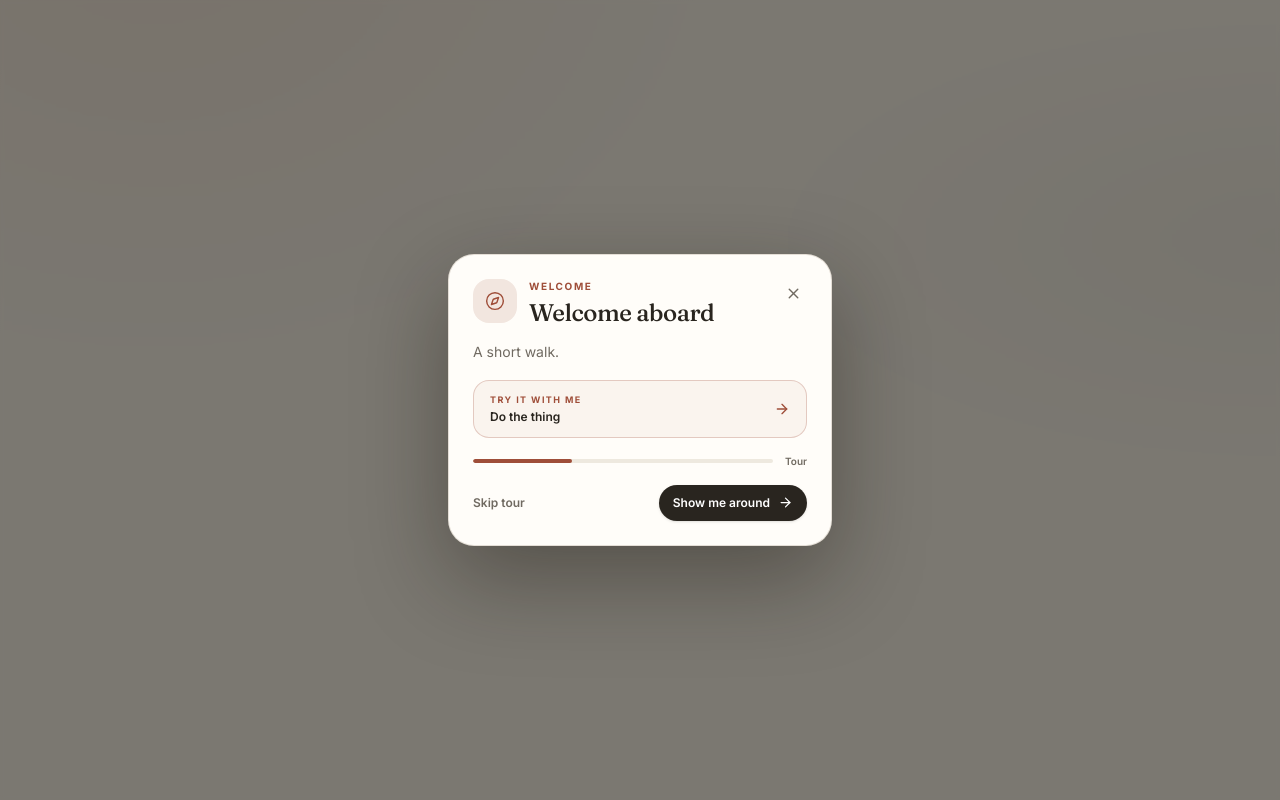
Test: tour shell › runs a hands-on action and shows the confirmation
Click the button "Try it with me Do the thing" at (536, 400), box [473, 380, 807, 438]
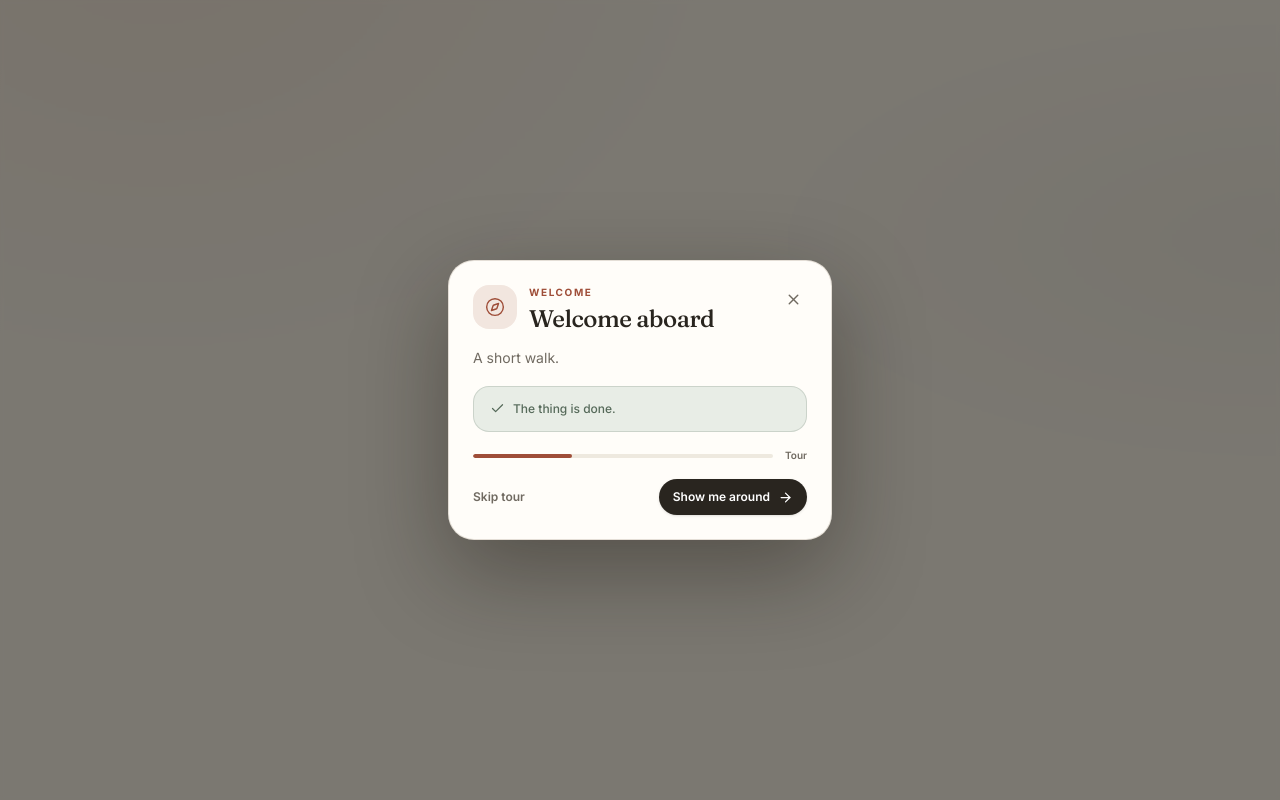
Result: the message reads "The thing is done." at [513, 401, 616, 416]
